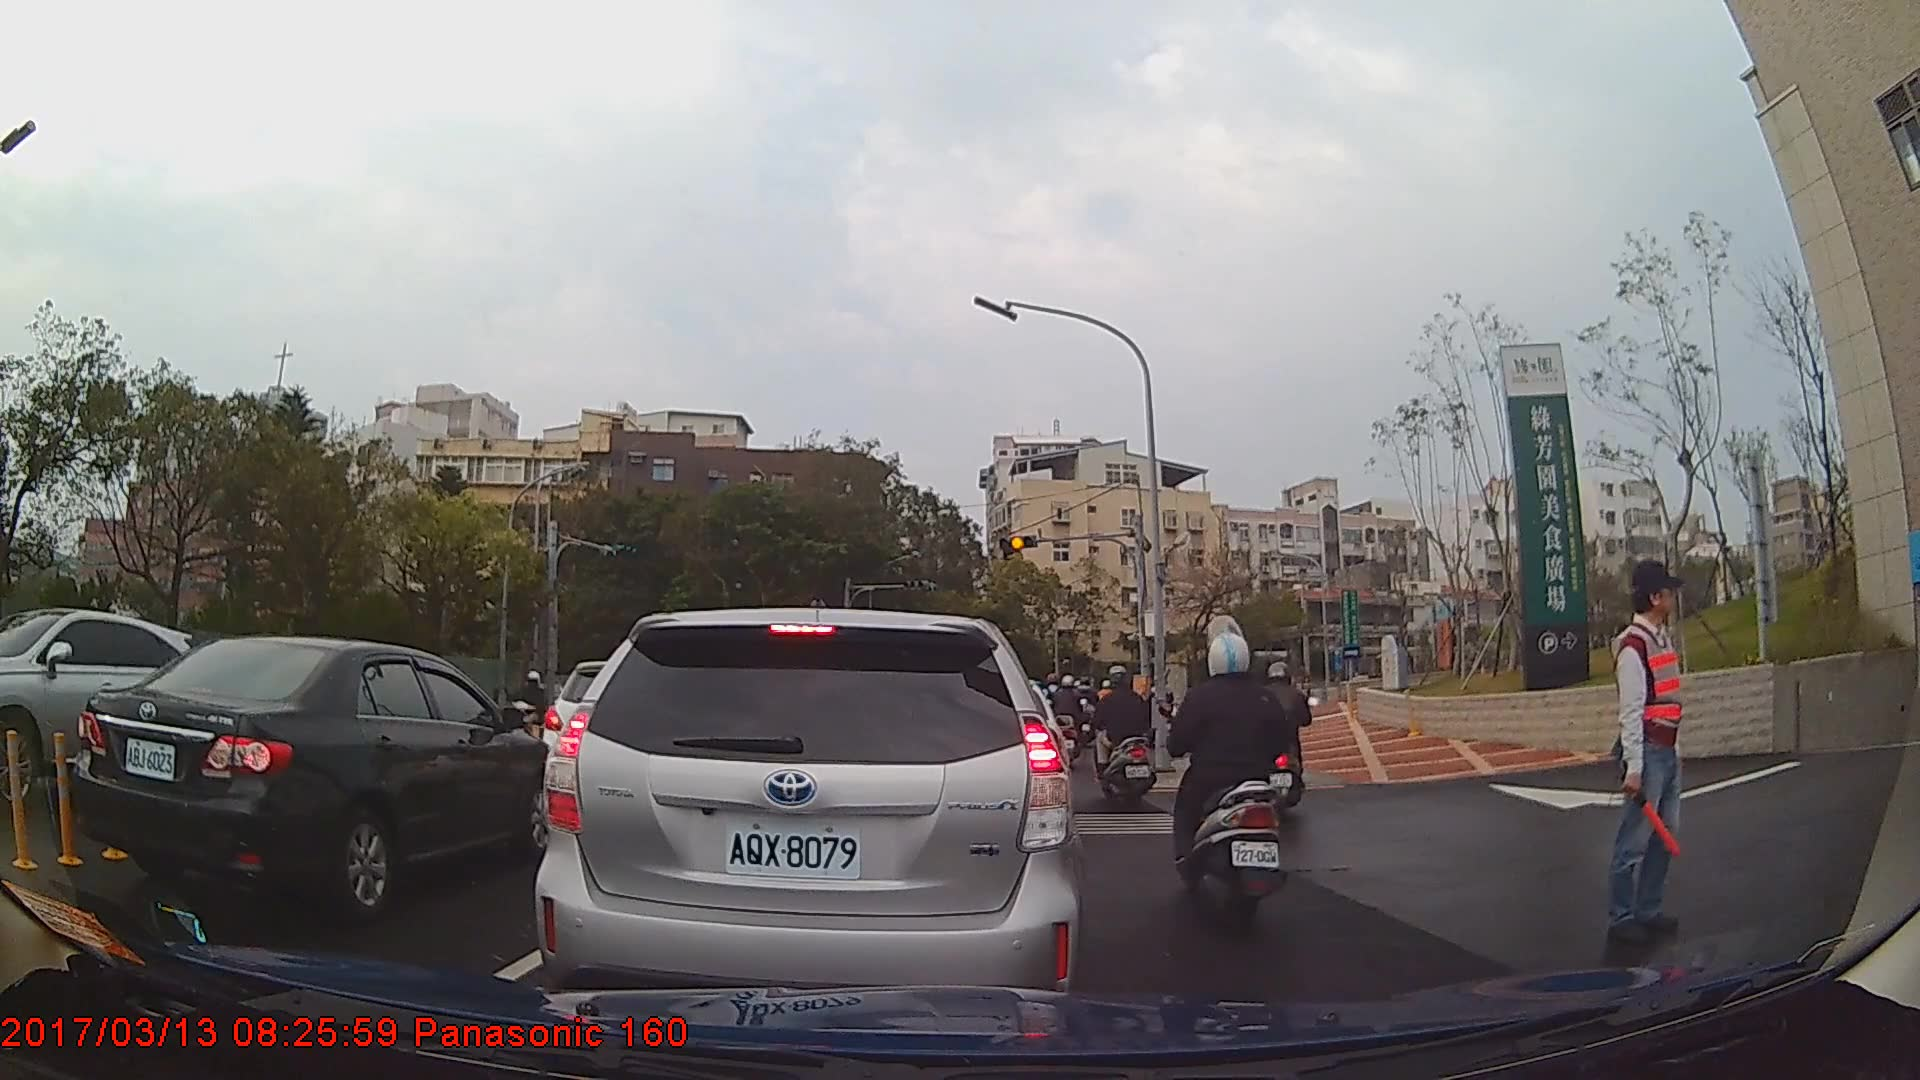pedestrian: (1608, 559, 1686, 946)
rider: (1167, 628, 1297, 936), (1238, 660, 1316, 814), (1095, 661, 1158, 816), (508, 670, 559, 743), (1054, 675, 1089, 770)
vehicle: (536, 606, 1079, 1040), (74, 633, 564, 918), (0, 606, 207, 788)
